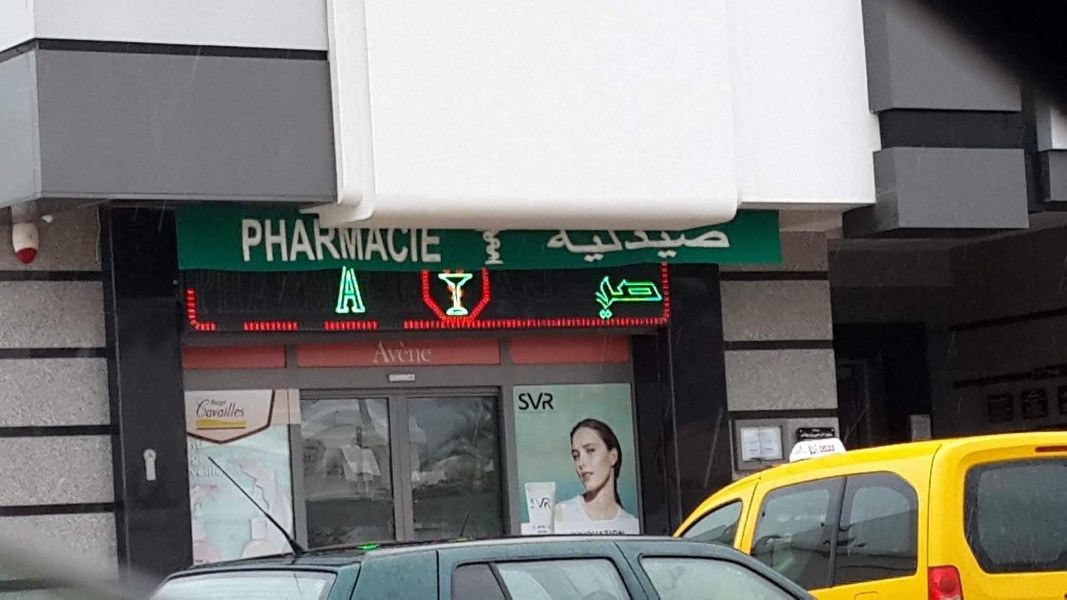text: (353, 264, 369, 315), (241, 219, 256, 266), (257, 219, 272, 266), (273, 219, 288, 266), (289, 219, 304, 266), (305, 219, 320, 266), (321, 219, 336, 266), (337, 219, 352, 266), (353, 219, 368, 266), (369, 219, 384, 266), (385, 219, 400, 266), (401, 219, 416, 266), (417, 219, 432, 266), (593, 276, 608, 320), (609, 276, 624, 320), (625, 276, 640, 320), (641, 276, 656, 320), (545, 226, 560, 268), (561, 226, 576, 268), (577, 226, 592, 268), (593, 226, 608, 268), (609, 226, 624, 268), (625, 226, 640, 268), (641, 226, 656, 268), (657, 226, 672, 268), (673, 226, 688, 268), (689, 226, 704, 268), (705, 226, 720, 268), (341, 264, 352, 315), (721, 226, 734, 268), (433, 219, 444, 266), (417, 339, 433, 367), (385, 339, 400, 367), (401, 339, 416, 367), (209, 397, 224, 422), (225, 397, 240, 422), (194, 397, 208, 422), (372, 339, 384, 367), (657, 276, 664, 320), (529, 393, 544, 411), (529, 495, 544, 511), (209, 465, 225, 480), (193, 465, 208, 480), (817, 442, 832, 456), (517, 393, 528, 411), (545, 393, 556, 411), (801, 428, 816, 440), (817, 428, 832, 440), (193, 456, 208, 467), (806, 442, 816, 456), (241, 397, 246, 422), (545, 495, 552, 511), (833, 442, 839, 456), (798, 428, 800, 440), (833, 428, 835, 440), (191, 465, 192, 480)
